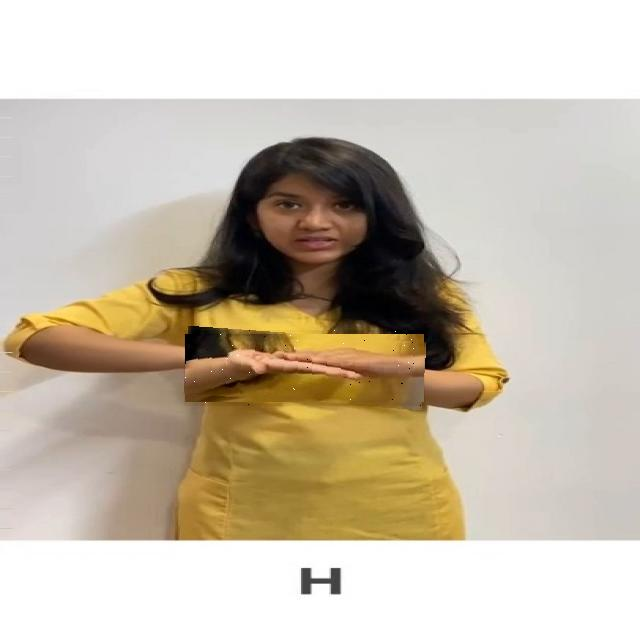H: (184, 330, 425, 406)
